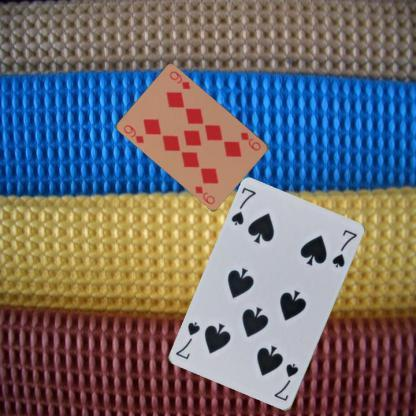7s: (228, 185, 258, 227), (271, 360, 300, 402)
9d: (120, 122, 146, 144), (238, 129, 262, 152)
